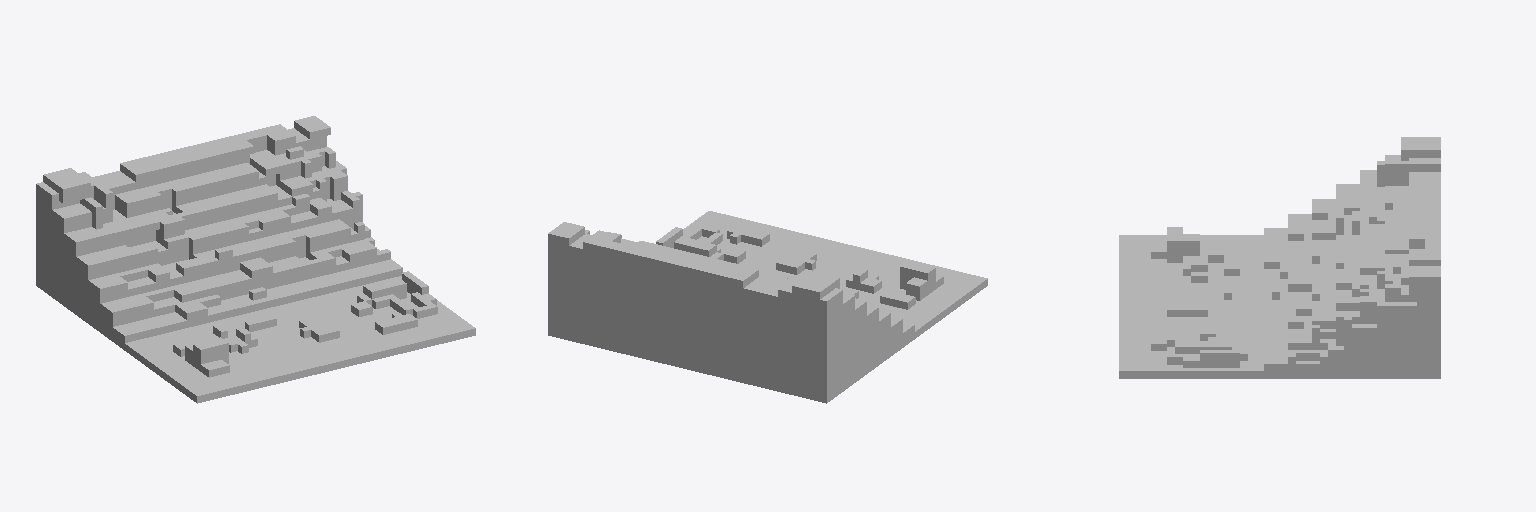
File: stairs2.obj
3 renders of one model, left to right at view 1: azimuth 30°, elevation 25°; view 2: azimuth 150°, elevation 25°; view 3: azimuth 270°, elevation 25°, orthographic.
Parts seen in each view (by area): view 1: stairs2; view 2: stairs2; view 3: stairs2.
Part boxes in pixels (left/top/right/bottom): stairs2: left=36, top=116, right=475, bottom=403; stairs2: left=548, top=211, right=987, bottom=403; stairs2: left=1119, top=137, right=1440, bottom=378.
Size of the model in its own units: 40 by 15 by 40.